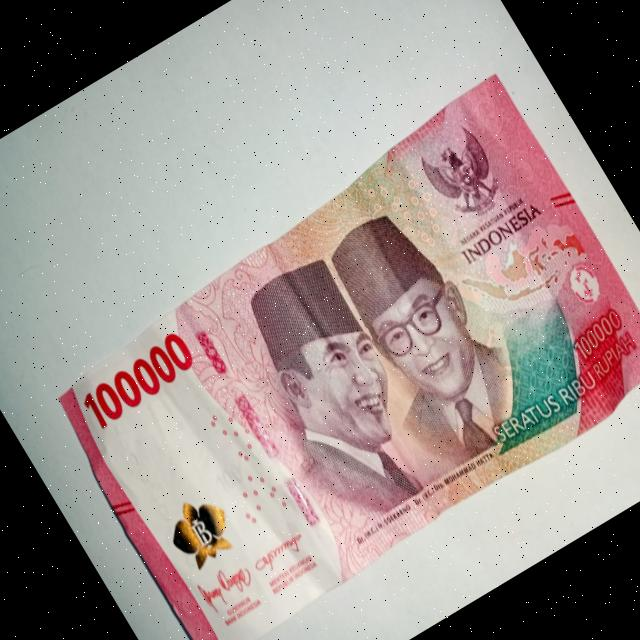100K: (9, 58, 640, 640)
